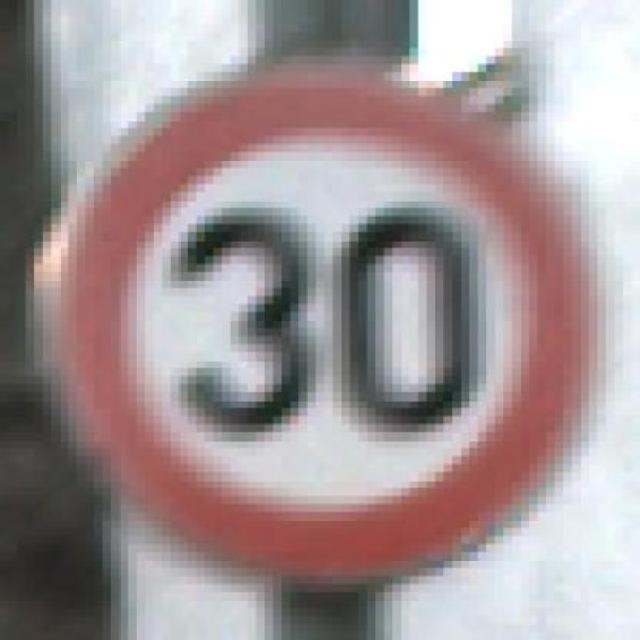Speed Limit 30 KMPh: (35, 40, 614, 592)
